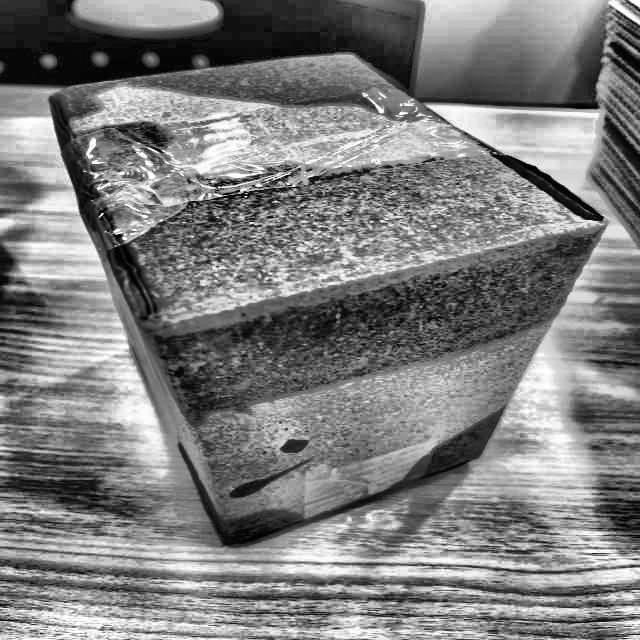box: (49, 51, 609, 551)
wet: (108, 154, 603, 426), (72, 55, 426, 131), (408, 408, 503, 481)
